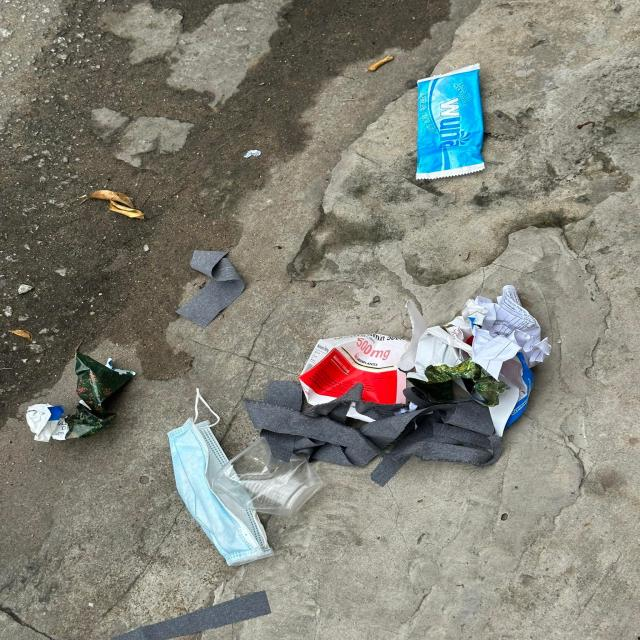cardboard box: (298, 333, 417, 422)
clothes: (242, 381, 503, 486), (109, 589, 274, 640), (174, 250, 246, 329)
mask: (168, 388, 275, 565)
packet: (416, 64, 485, 180)
paper: (406, 282, 551, 437), (63, 349, 135, 439), (26, 403, 67, 443)
plastic glass: (213, 436, 326, 516)
